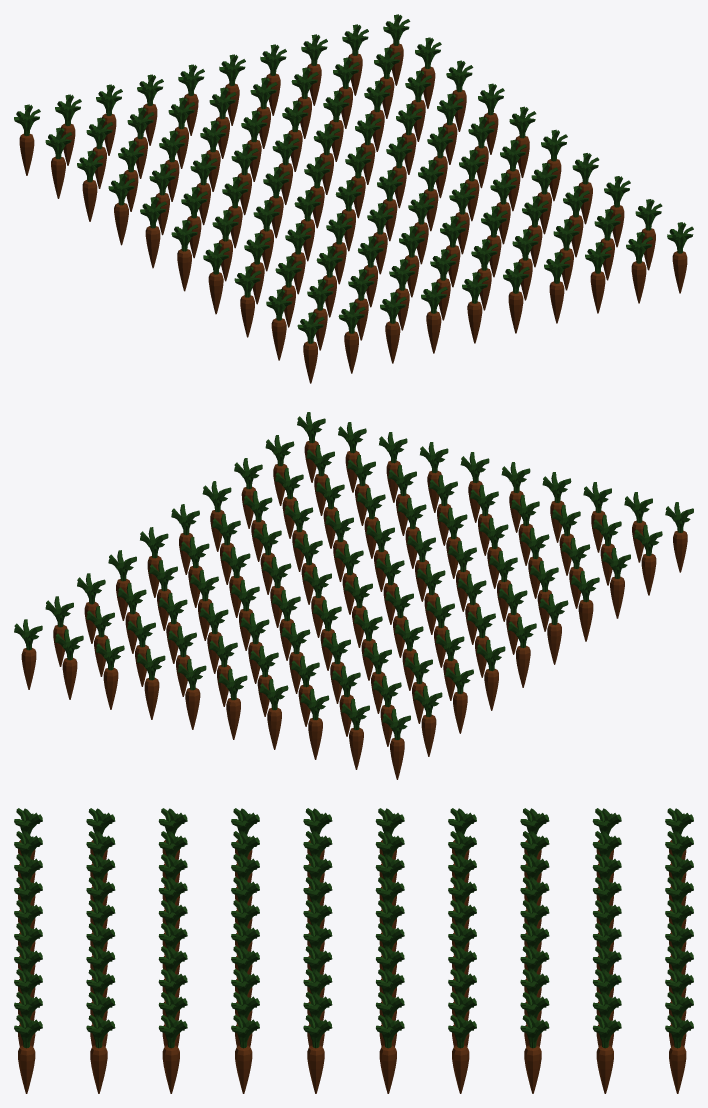
Rendered from zanahorias.obj.
3 views of the same model, one above another, from view 1: azimuth 30°, elevation 25°; view 2: azimuth 150°, elevation 25°; view 3: azimuth 270°, elevation 25° (orthographic). The views are drawn at different scales.
Parts seen in each view (by area): view 1: Carrot_Cylinder.008; view 2: Carrot_Cylinder.008; view 3: Carrot_Cylinder.008.
Part boxes in pixels (bbox=[...]): Carrot_Cylinder.008: bbox=[14, 14, 693, 383]; Carrot_Cylinder.008: bbox=[14, 412, 693, 779]; Carrot_Cylinder.008: bbox=[14, 808, 693, 1093].
Bounding box in the file's own units: 1.41 × 0.2376 × 1.83.
